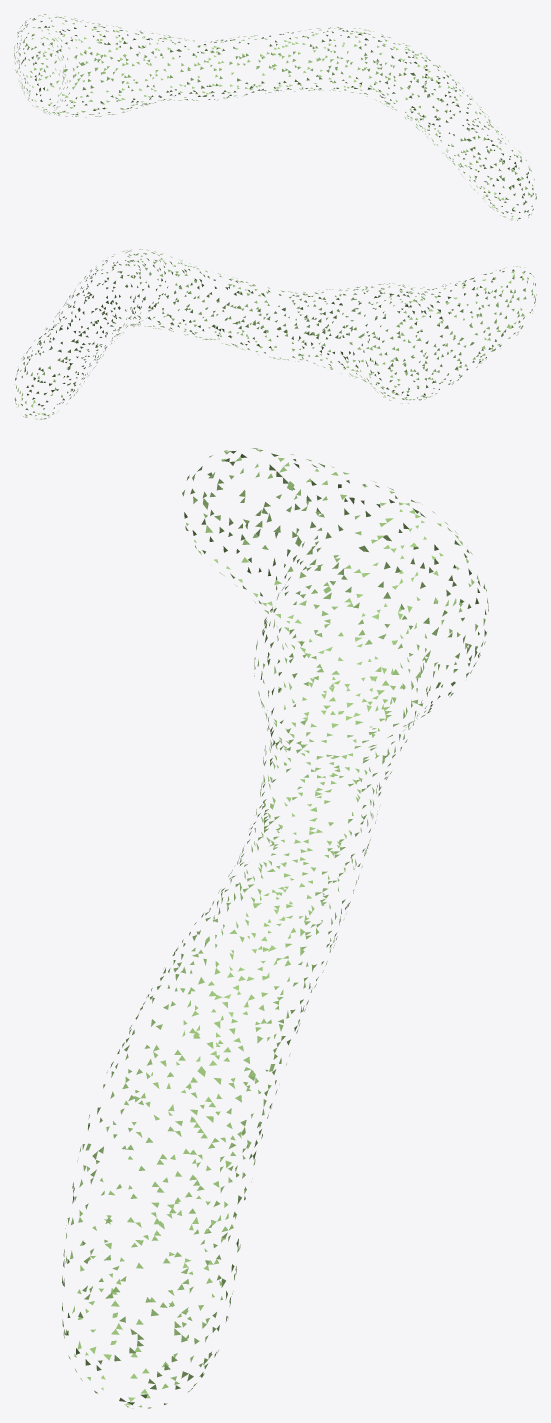
File: morph_013.glb
3 views of the same model, one above another, from view 1: azimuth 30°, elevation 25°; view 2: azimuth 150°, elevation 25°; view 3: azimuth 270°, elevation 25° (orthographic). The views are drawn at different scales.
Bounding box in the file's own units: 105 × 55.66 × 40.99.
